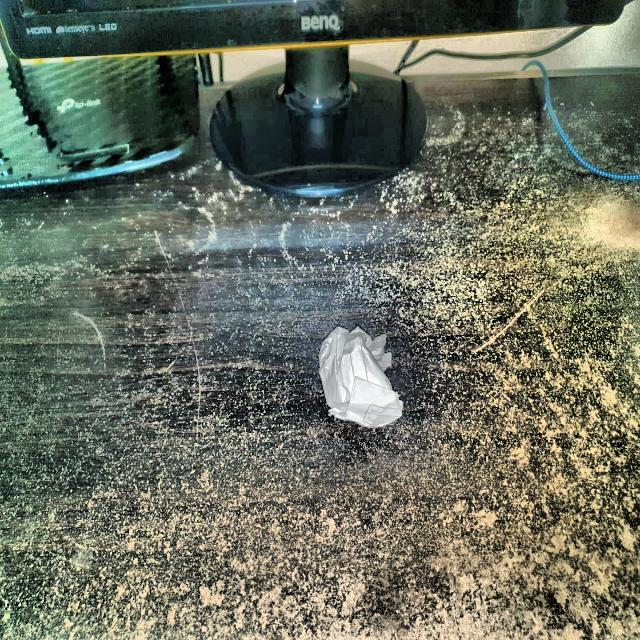Paper: (316, 326, 410, 431)
